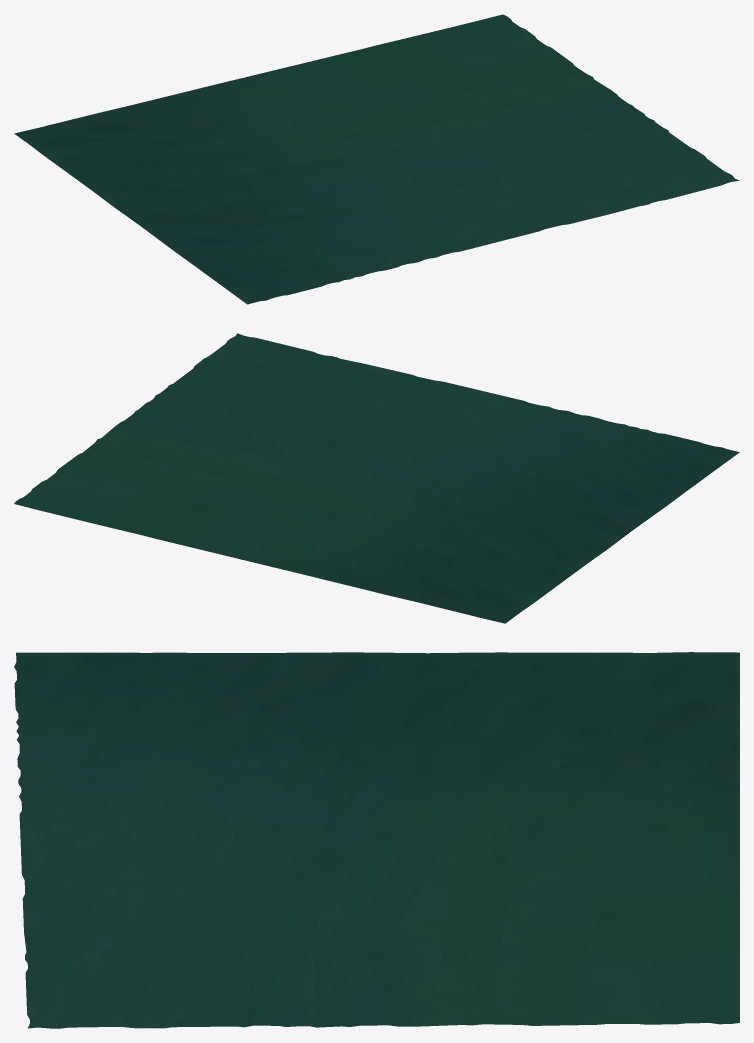
3 renders of one model, top to bottom at view 1: azimuth 30°, elevation 25°; view 2: azimuth 150°, elevation 25°; view 3: azimuth 270°, elevation 25°, orthographic. The views are drawn at different scales.
Size of the model in its own units: 345 by 0.8096 by 282.
Materials: 1 (1 with a texture image).
